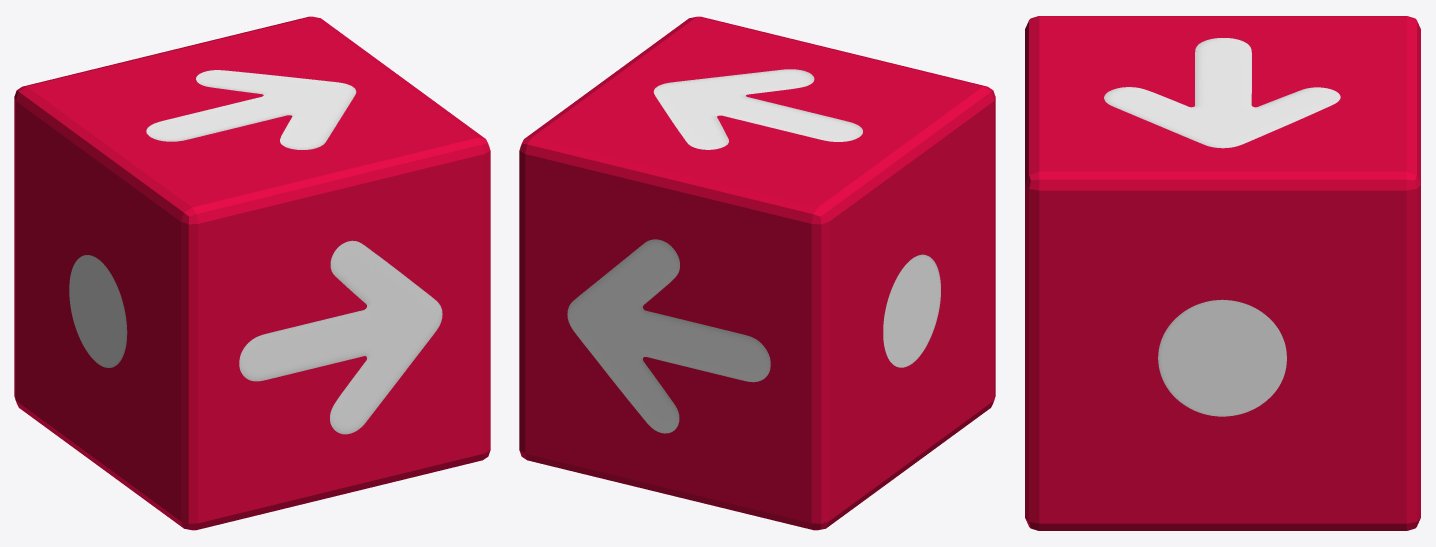
File: Jelly.fbx
3 renders of one model, left to right at view 1: azimuth 30°, elevation 25°; view 2: azimuth 150°, elevation 25°; view 3: azimuth 270°, elevation 25°, orthographic. The views are drawn at different scales.
Visible parts, largest first — view 1: Cube, Empty.004, Empty.001, Empty.006; view 2: Cube, Empty.003, Empty.001, Empty.006; view 3: Cube, Empty.007, Empty.001.
Boxes of the visible parts, x1=… form: Cube: x1=14, y1=16, x2=490, y2=530; Empty.004: x1=239, y1=240, x2=442, y2=434; Empty.001: x1=146, y1=70, x2=356, y2=149; Empty.006: x1=69, y1=255, x2=127, y2=367; Cube: x1=519, y1=16, x2=995, y2=530; Empty.003: x1=567, y1=239, x2=770, y2=433; Empty.001: x1=653, y1=69, x2=862, y2=149; Empty.006: x1=883, y1=254, x2=940, y2=367; Cube: x1=1025, y1=16, x2=1420, y2=530; Empty.007: x1=1158, y1=299, x2=1286, y2=416; Empty.001: x1=1104, y1=38, x2=1340, y2=148.
Bounding box in the file's own units: 101 × 100 × 100.
Materials: 3 (2 with a texture image).
